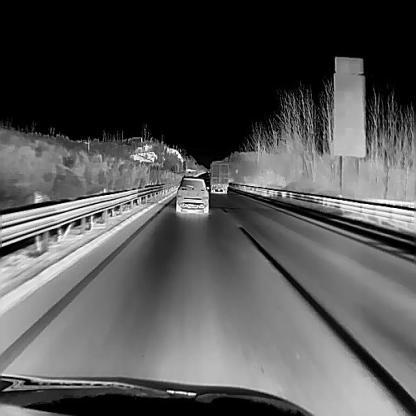car: (175, 175, 209, 213), (208, 160, 228, 194)
